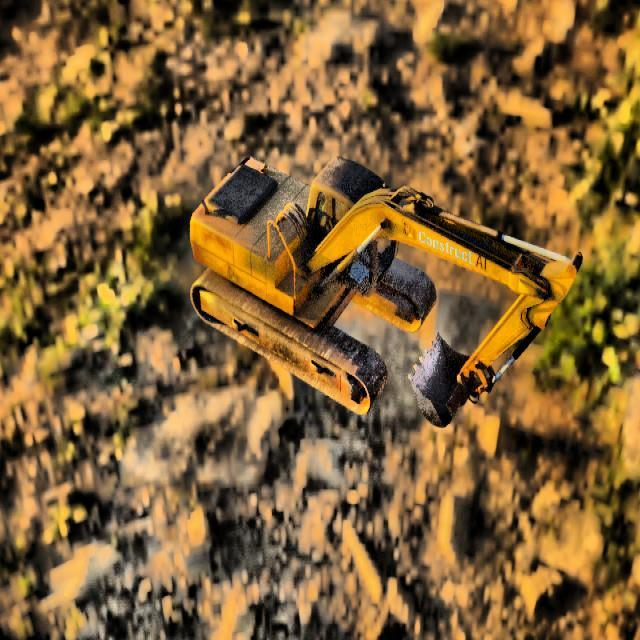excavator: (189, 155, 583, 429)
